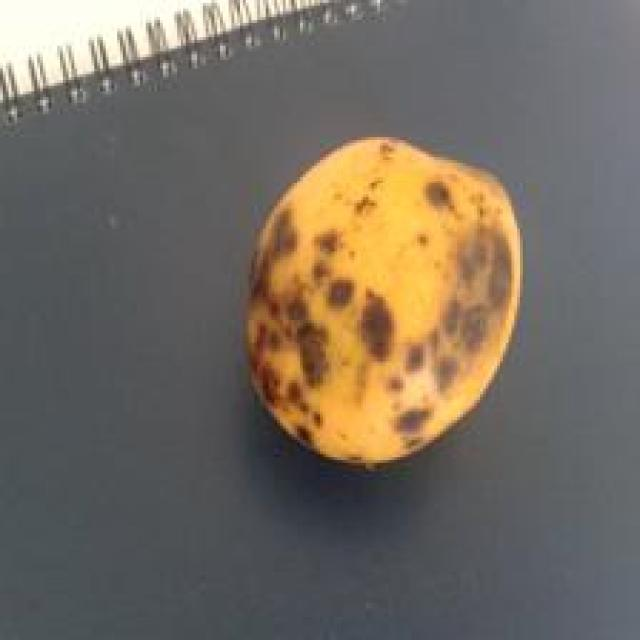black spot: (242, 136, 526, 469)
